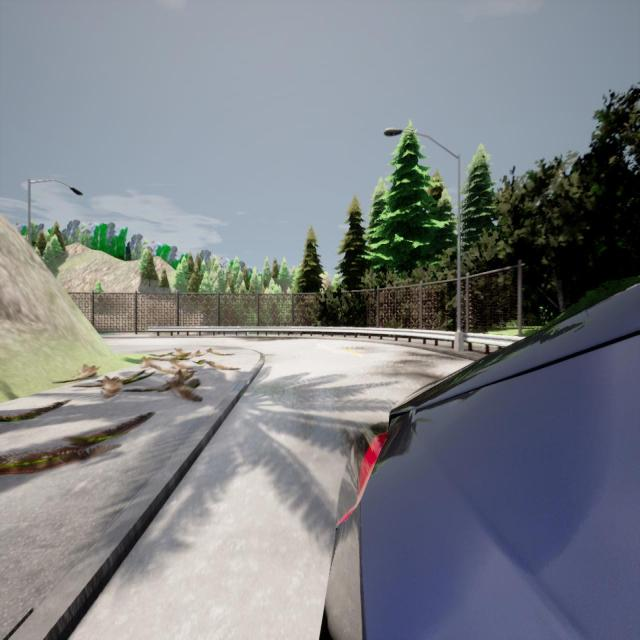Vehicle: (318, 279, 640, 640)
